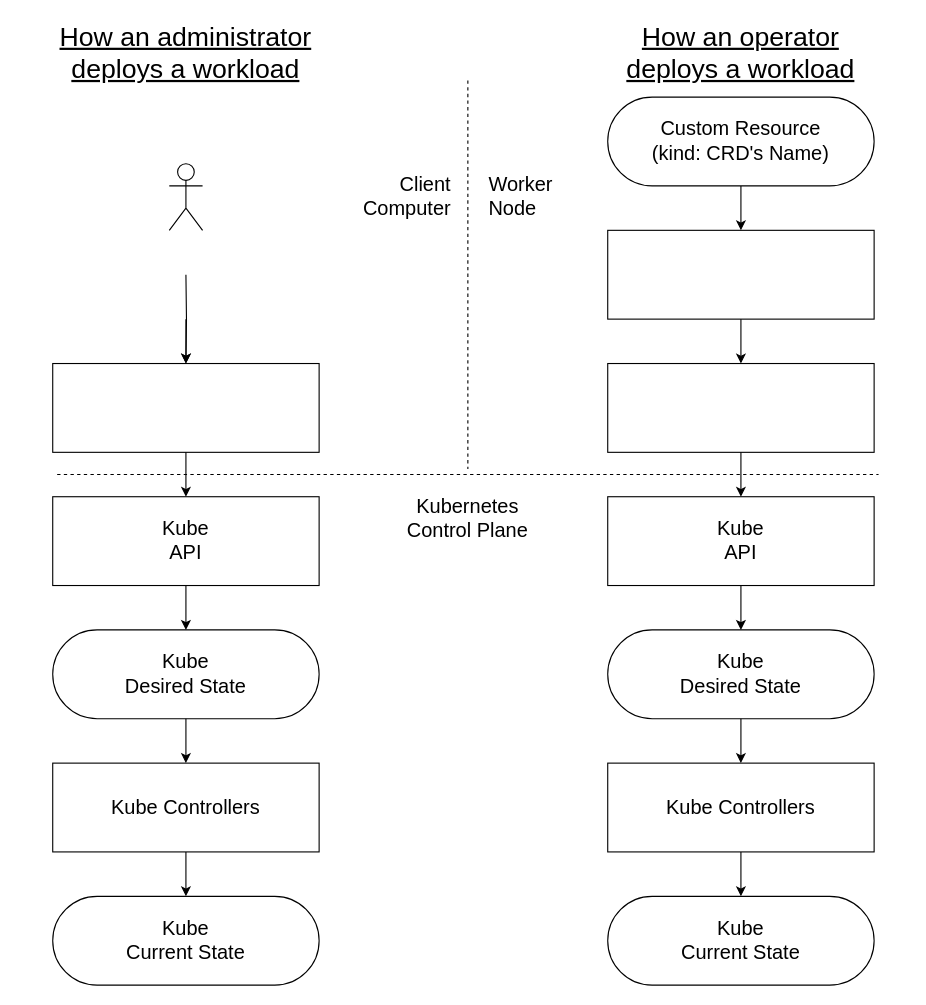
Image size: 926x1005. Some labels were removed from this diagram. Each missing label, with the centre of its shape:
"Admin" belongs at [185,196].
"kubectl CLI" belongs at [185,407].
"Operator API" belongs at [740,274].
"Operator Controller" belongs at [740,407].
